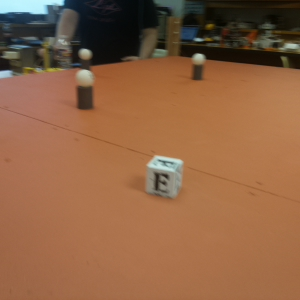blockE: (145, 152, 184, 198)
corner: (167, 17, 180, 61)
obstacle: (76, 71, 95, 114), (78, 48, 94, 69), (192, 53, 204, 80)
